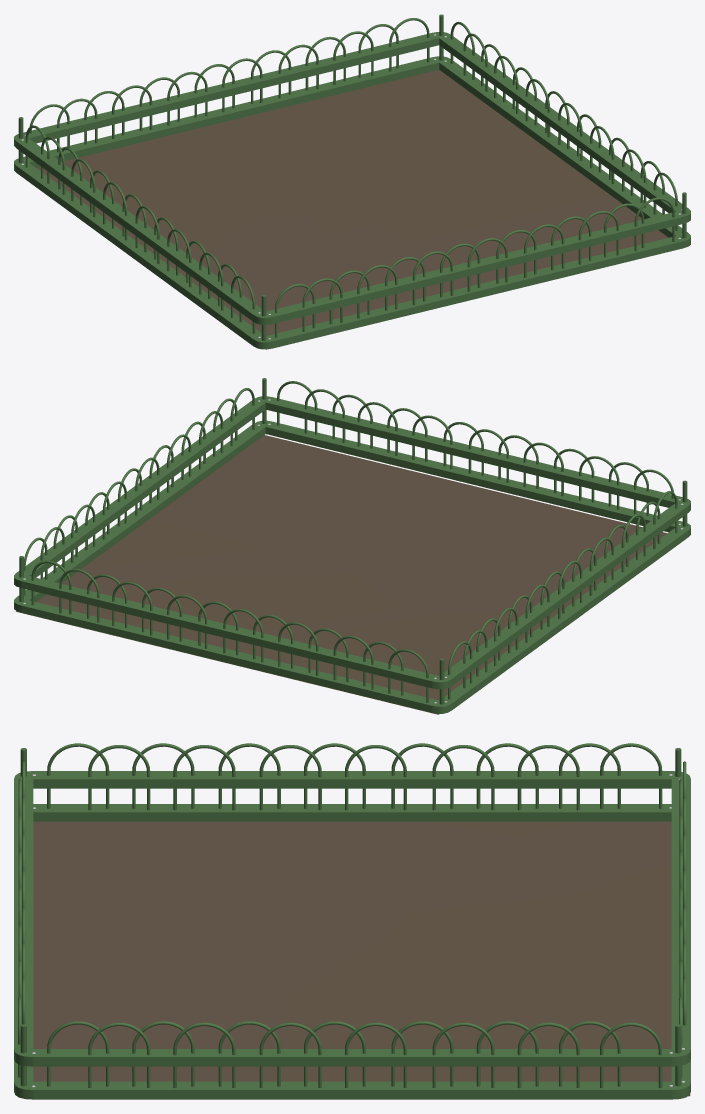
File: P_cloture_herbe.fbx
The picture shows the model from 3 angles, top to bottom: view 1: azimuth 30°, elevation 25°; view 2: azimuth 150°, elevation 25°; view 3: azimuth 270°, elevation 25°; orthographic projection. The views are drawn at different scales.
Parts seen in each view (by area): view 1: Sphere006; view 2: Sphere006; view 3: Sphere006.
Part boxes in pixels (x1,y1,x2,y2): Sphere006: (14, 14, 690, 349); Sphere006: (14, 378, 690, 714); Sphere006: (14, 743, 690, 1099).
Size of the model in its own units: 122 by 15.11 by 122.
